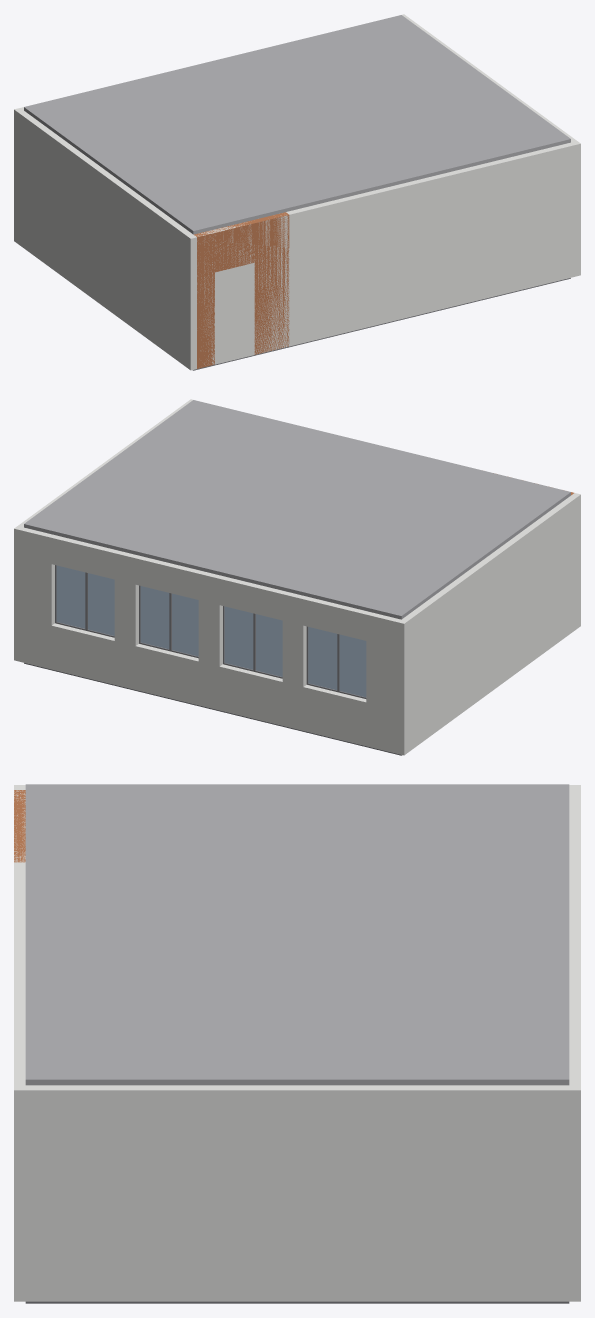
Rendered from AulaNueva.fbx.
3 views of the same model, one above another, from view 1: azimuth 30°, elevation 25°; view 2: azimuth 150°, elevation 25°; view 3: azimuth 270°, elevation 25° (orthographic). The views are drawn at different scales.
Visible parts, largest first — view 1: Walls, Techo, Pared_Ladrillo, Floor; view 2: Techo, Walls, Windows, Floor; view 3: Techo, Walls, Floor, Pared_Ladrillo.
Part boxes in pixels (bbox=[...]): Walls: bbox=[14, 14, 580, 370]; Techo: bbox=[24, 15, 570, 234]; Pared_Ladrillo: bbox=[194, 212, 289, 368]; Floor: bbox=[193, 278, 570, 370]; Techo: bbox=[24, 400, 570, 619]; Walls: bbox=[14, 399, 580, 755]; Windows: bbox=[55, 565, 366, 698]; Floor: bbox=[24, 663, 401, 755]; Techo: bbox=[25, 784, 569, 1085]; Walls: bbox=[14, 785, 580, 1301]; Floor: bbox=[25, 1301, 569, 1303]; Pared_Ladrillo: bbox=[14, 790, 25, 862].
Bounding box in the file's own units: 930 × 318 × 730.
